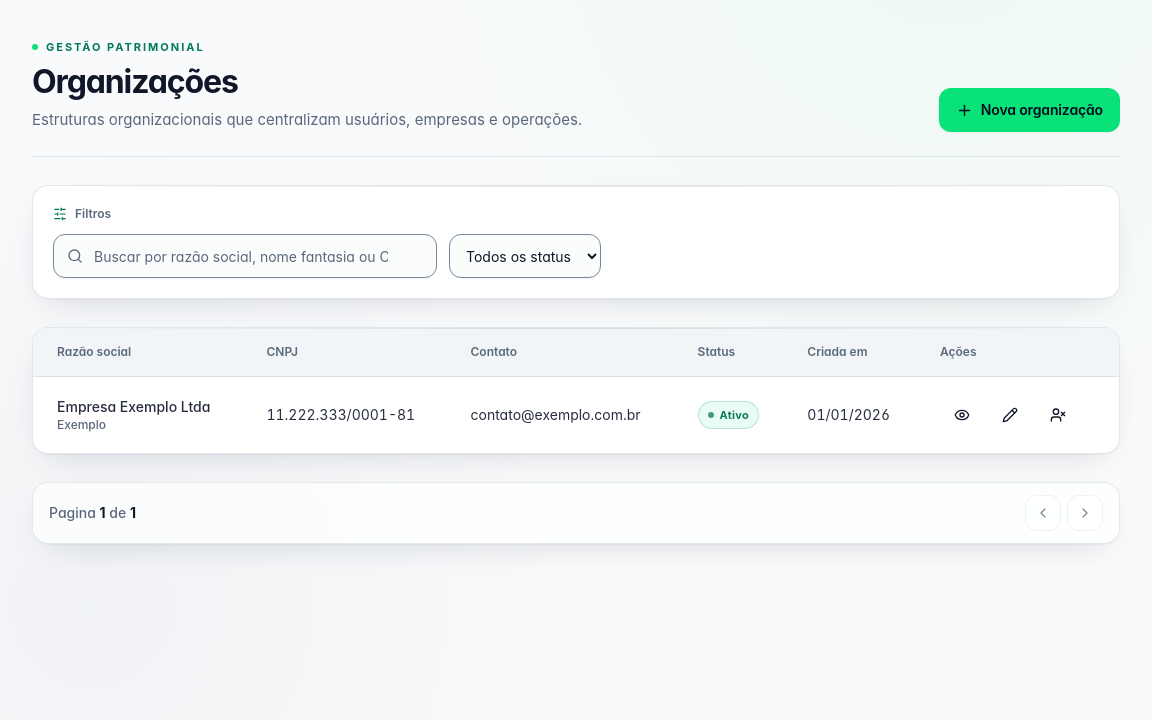
Test: OrganizationsPage › mostra conflito de CNPJ no campo e preserva o formulário
Click the button "Nova organização" at coordinates (1029, 110), box [939, 88, 1120, 132]
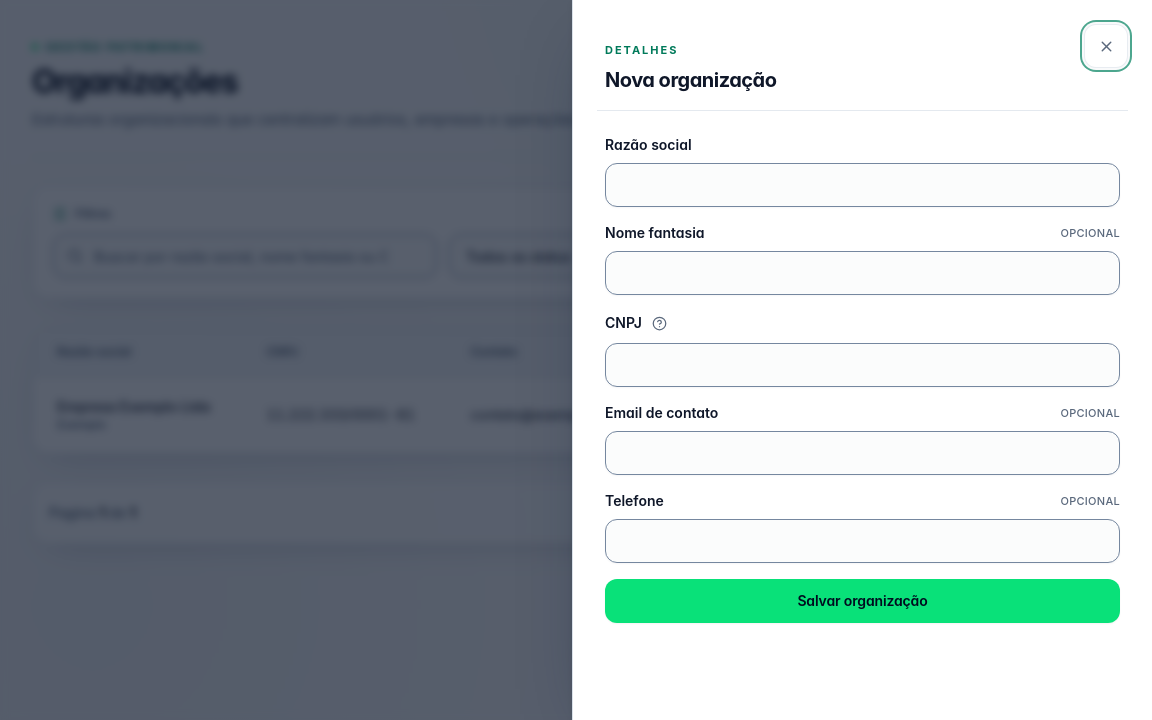
Type "Nova Org Ltda" into the field labelled "Razão social" at coordinates (862, 185), box [605, 163, 1120, 207]
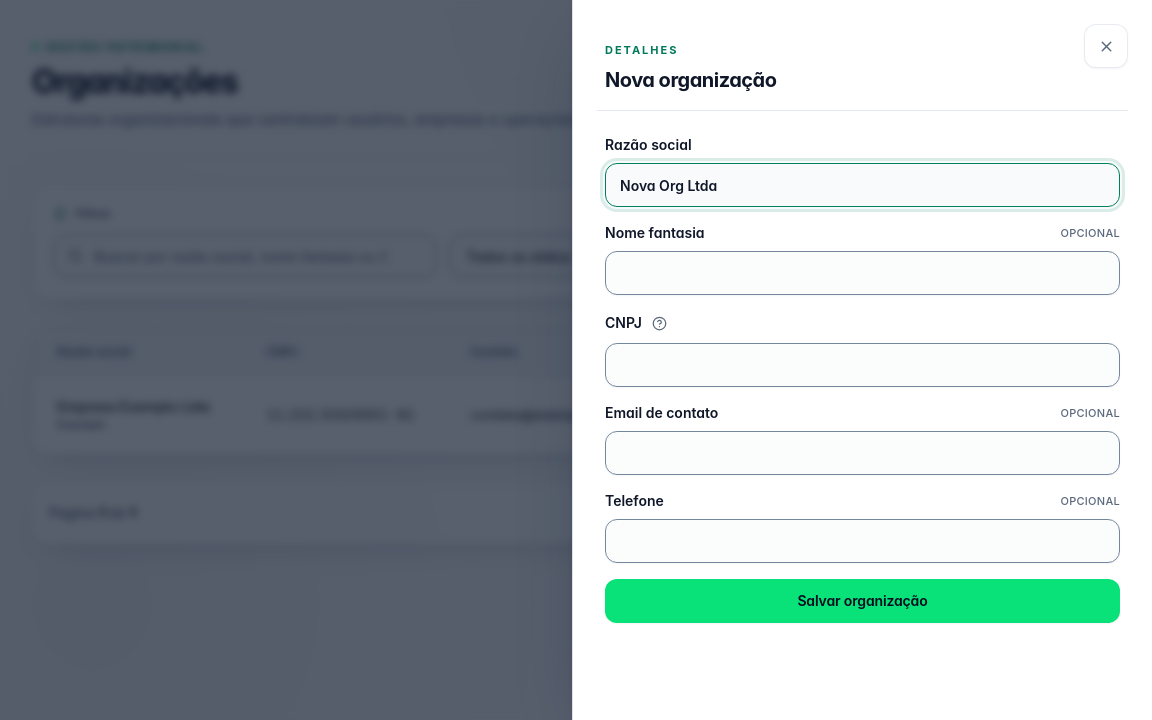
Type "11222333000181" into the field labelled "CNPJ" at coordinates (862, 365), box [605, 343, 1120, 387]
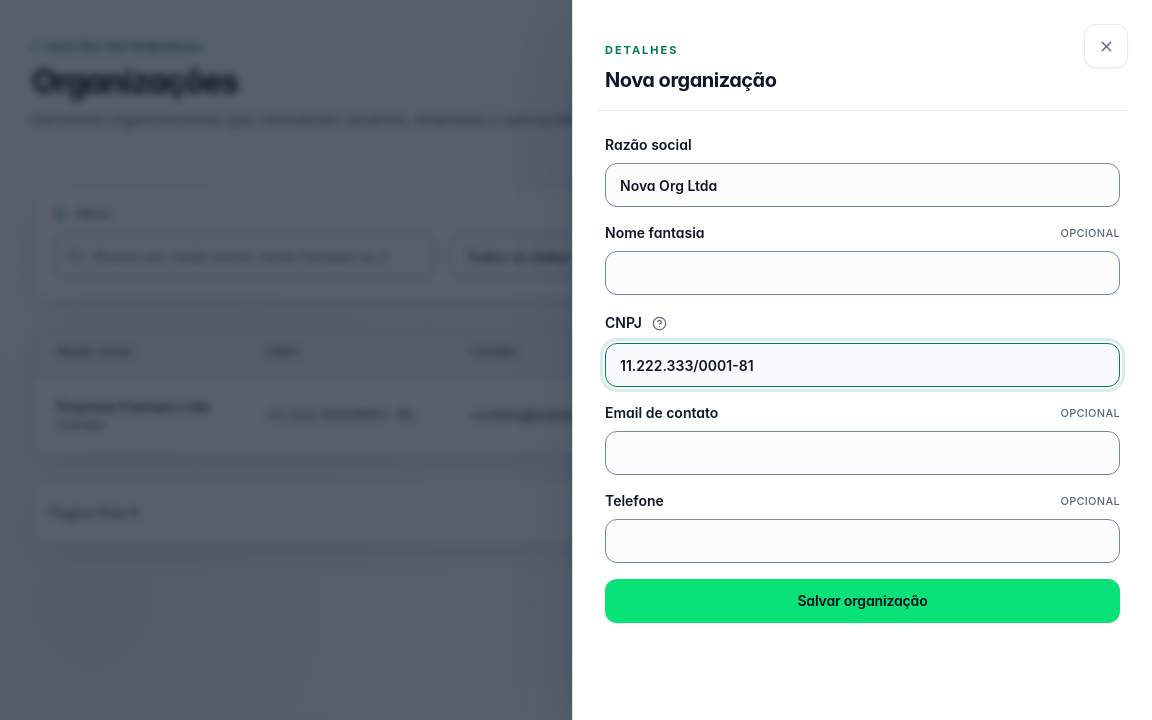
Click the button "Salvar organização" at coordinates (862, 601), box [605, 579, 1120, 623]
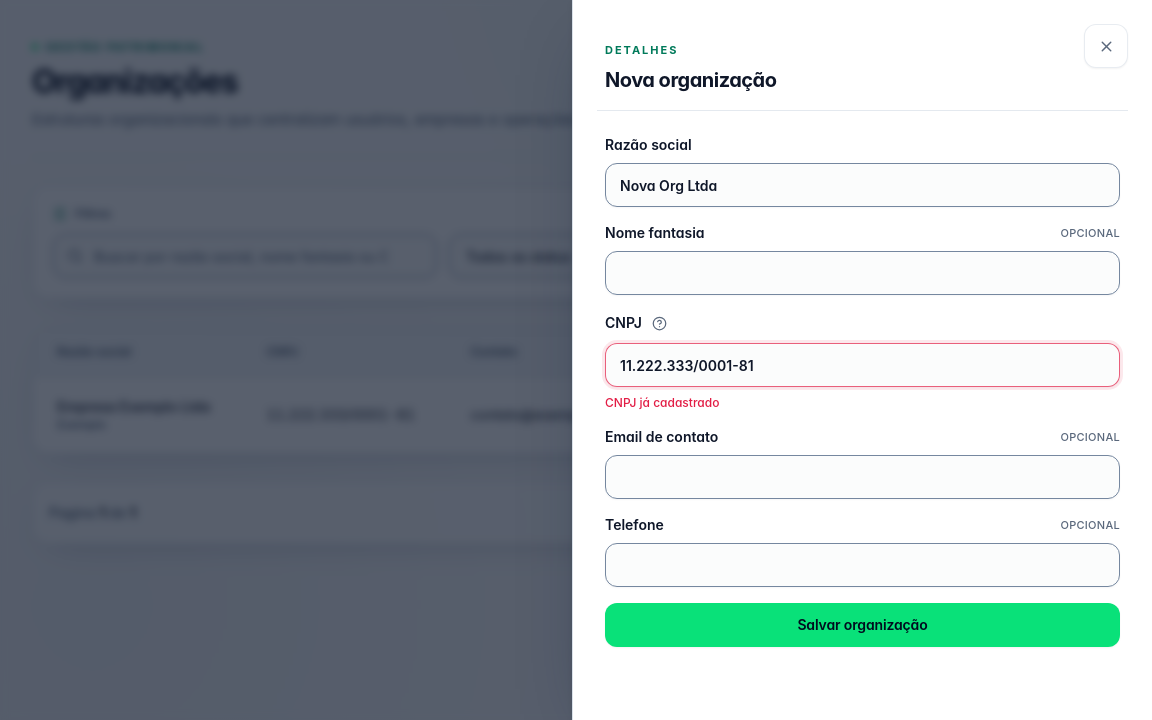
Result: the text "CNPJ já cadastrado" is shown at [605, 395, 719, 410]
